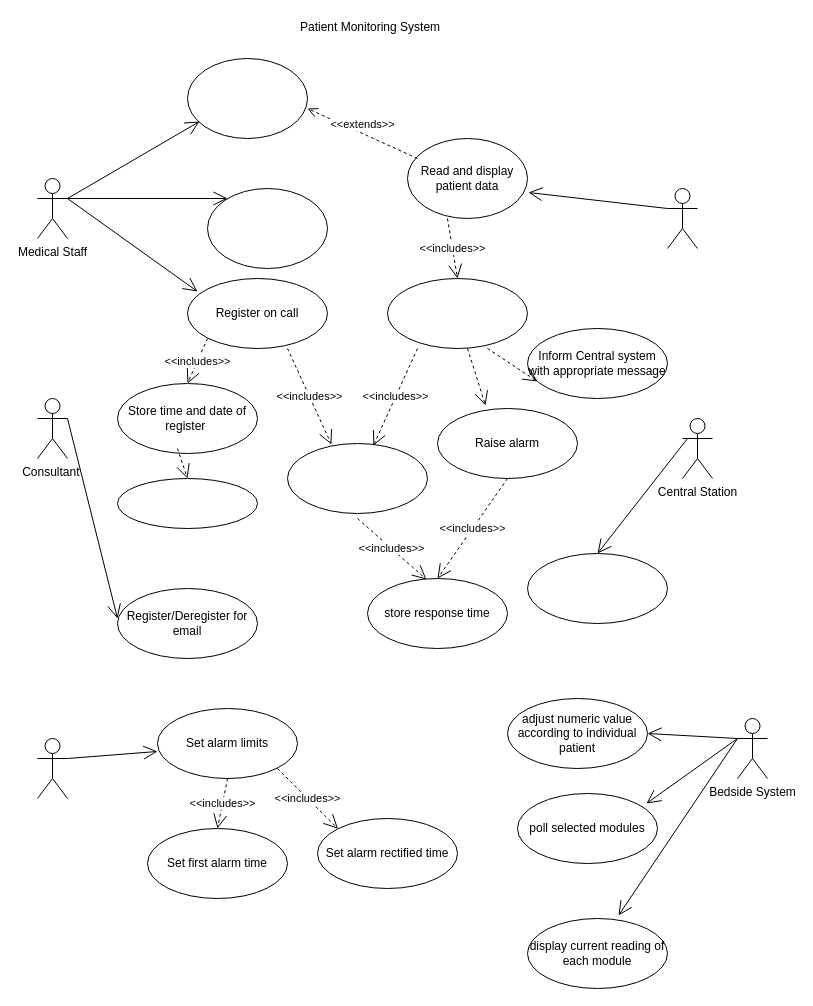
Image size: 813x1006. Some labels were removed from this diagram. The shapes that lost their labels are listed below. From the top down, each one's centre as x and y in pixels, then its label:
point (247, 98): Select a patient to monitor
point (267, 228): Select modules to monitor behaviour of patient
point (682, 218): Patient
point (457, 313): Test Patient Data
point (357, 478): Send SMS to staff on call
point (187, 503): register/deregister on time expired
point (597, 588): show active bedside system
point (52, 768): Management
